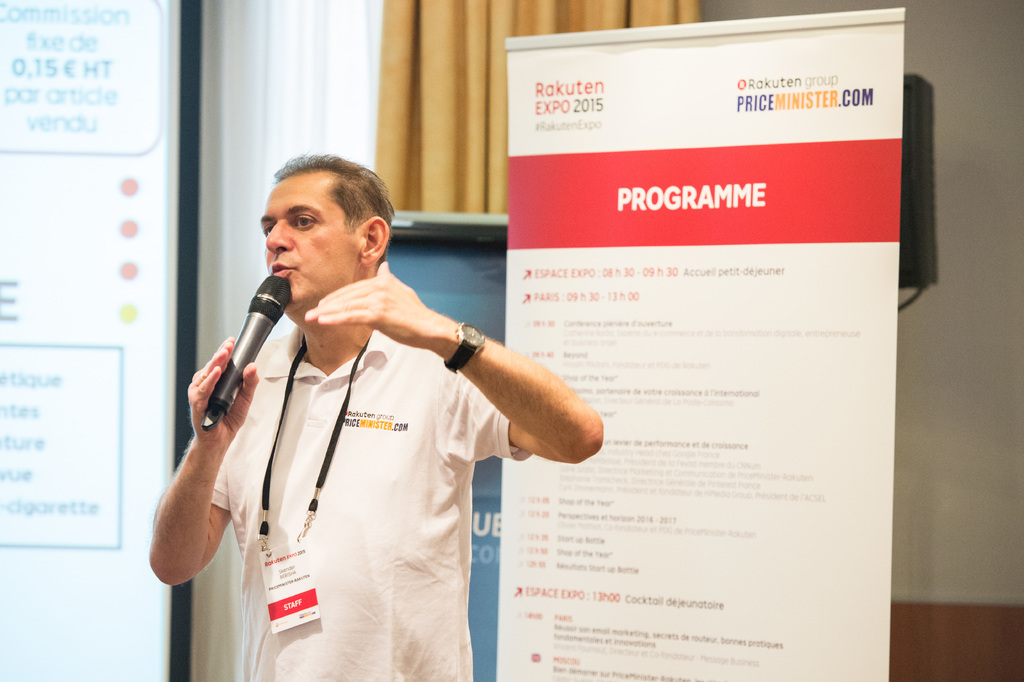Person: (143, 148, 604, 682)
